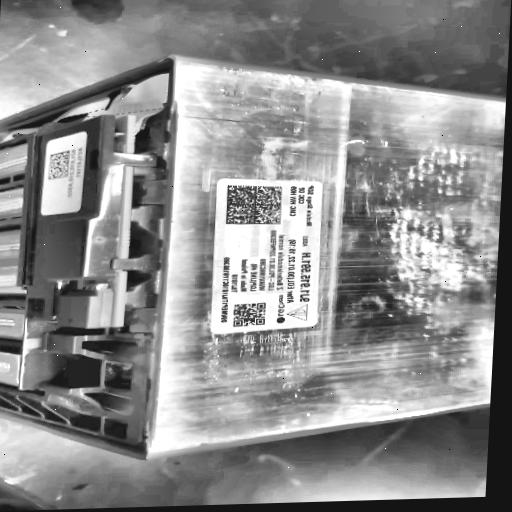battery_module: (0, 57, 506, 461)
